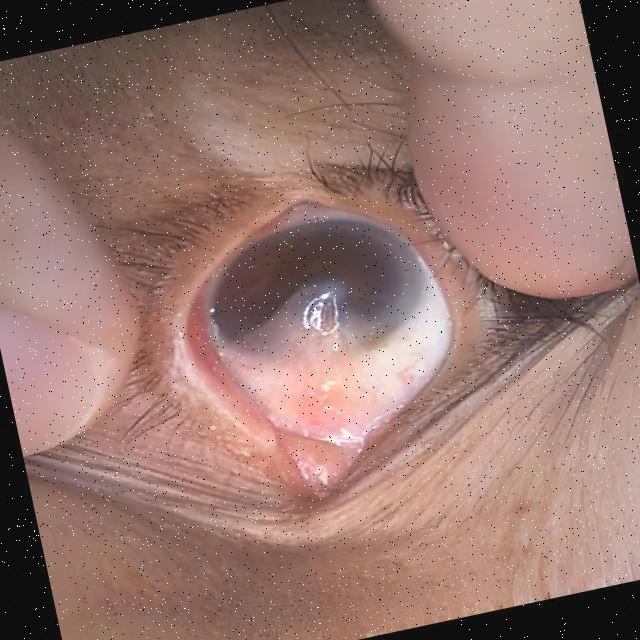Pterygium: (228, 265, 421, 458)
